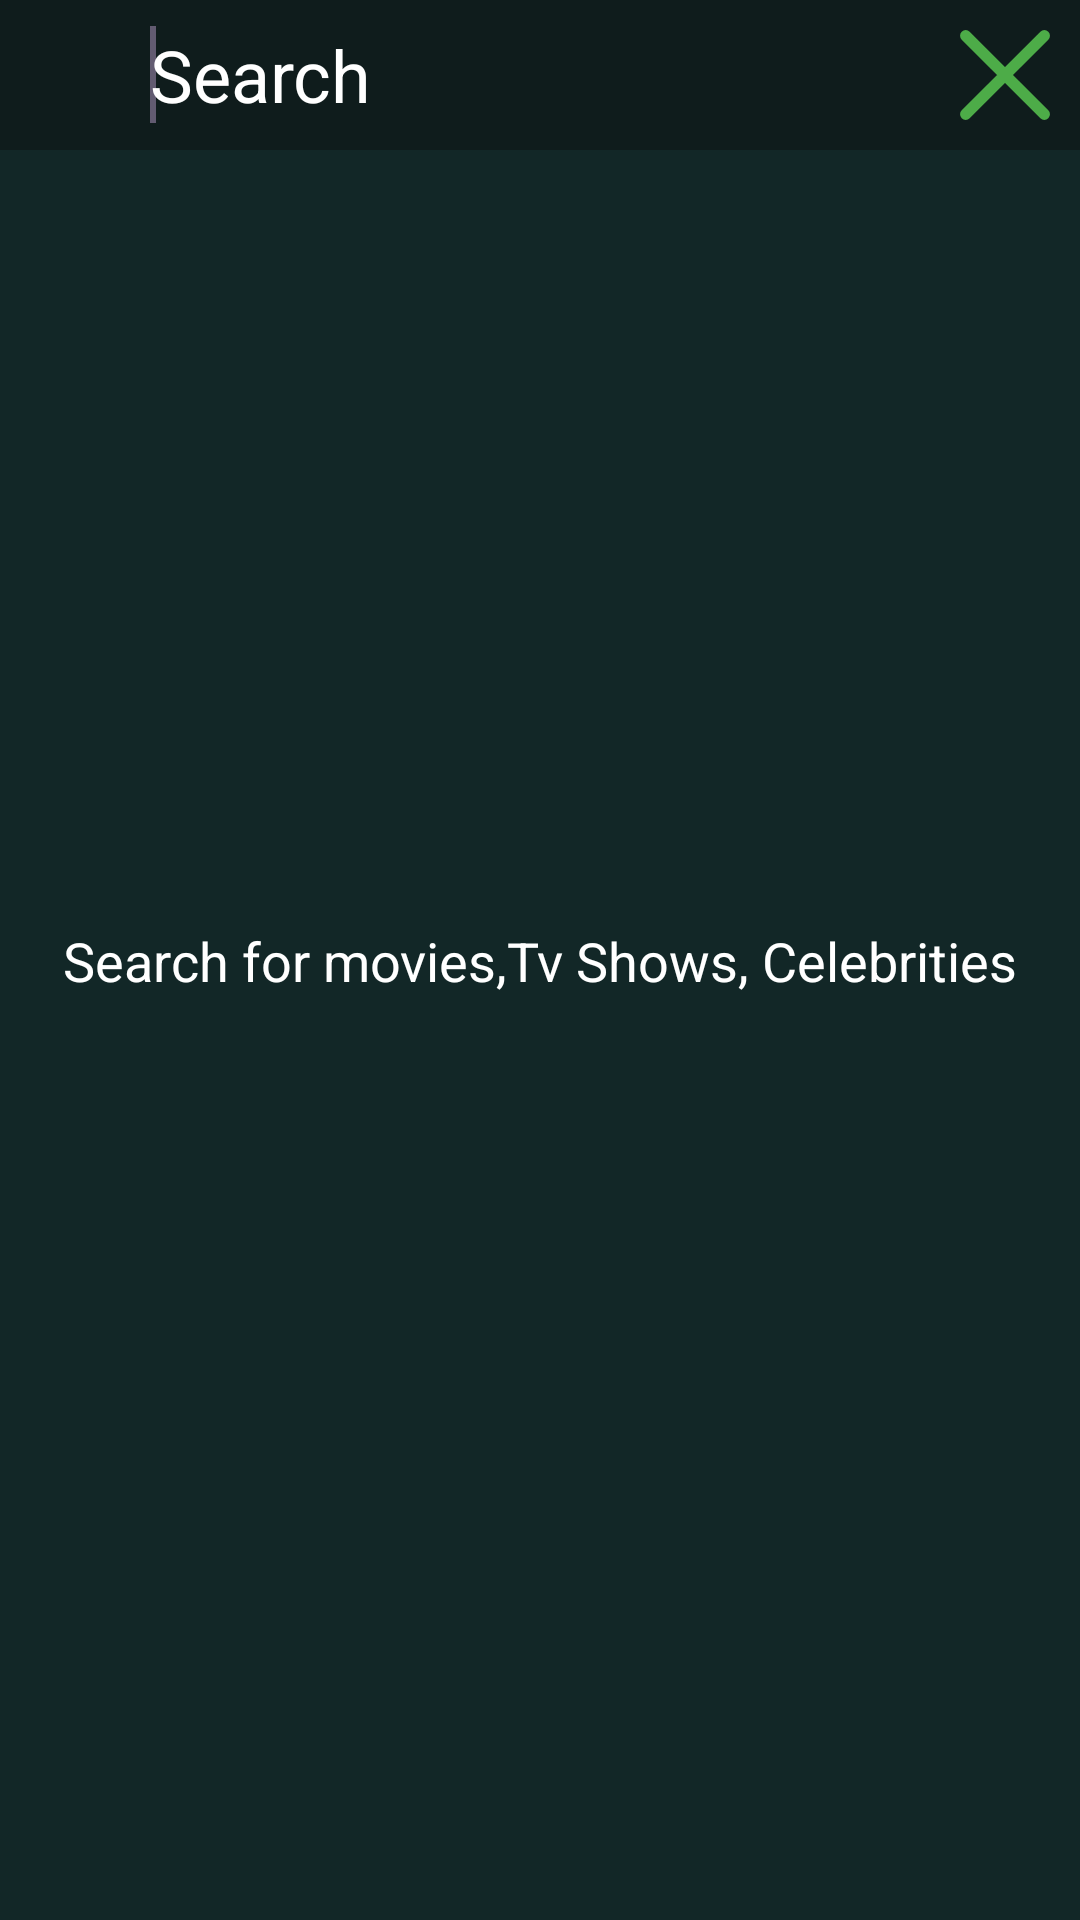

Screen size 1080×1920. Icon name, then its center in pixels as (x=x, y=y):
cancel: (x=1005, y=75)
